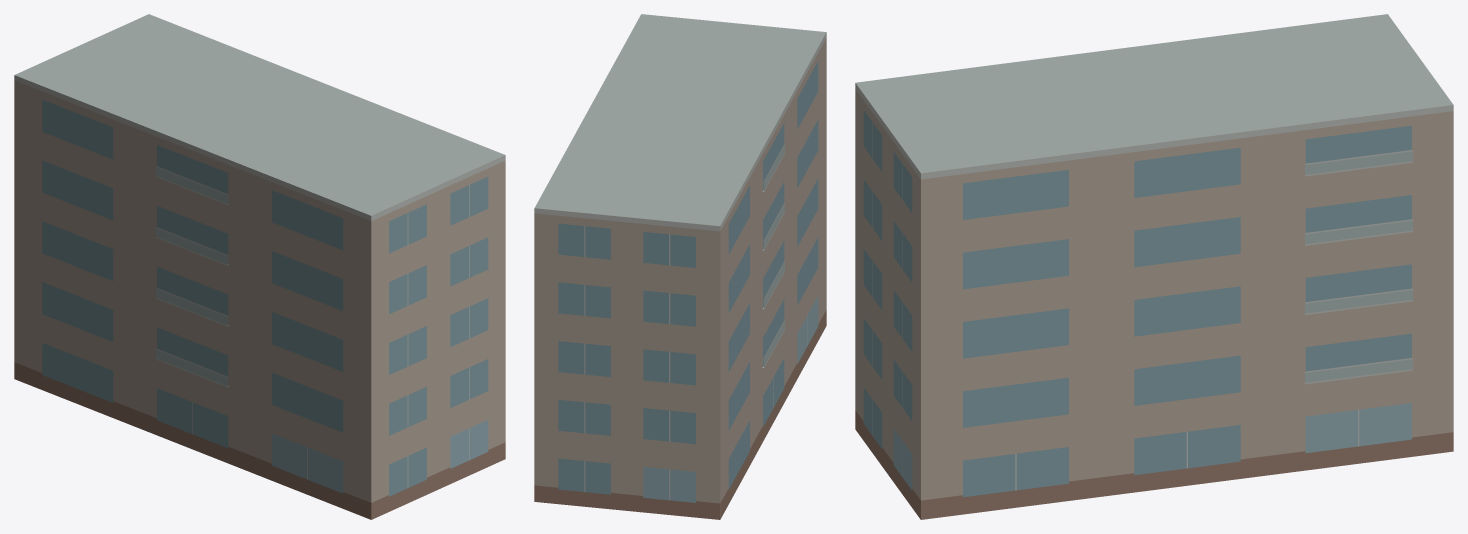
Rendered from survey-upis-33028330.glb.
The picture shows the model from 3 angles, left to right: view 1: azimuth 30°, elevation 25°; view 2: azimuth 150°, elevation 25°; view 3: azimuth 270°, elevation 25°; orthographic projection. The views are drawn at different scales.
Visible parts, largest first — view 1: survey-upis-33028330.tmp; view 2: survey-upis-33028330.tmp; view 3: survey-upis-33028330.tmp.
Boxes of the visible parts, x1,y1,x2,y2 form: survey-upis-33028330.tmp: (14,14,505,519); survey-upis-33028330.tmp: (534,14,826,519); survey-upis-33028330.tmp: (855,14,1453,519).
Bounding box in the file's own units: 13.67 × 13.85 × 21.68.
